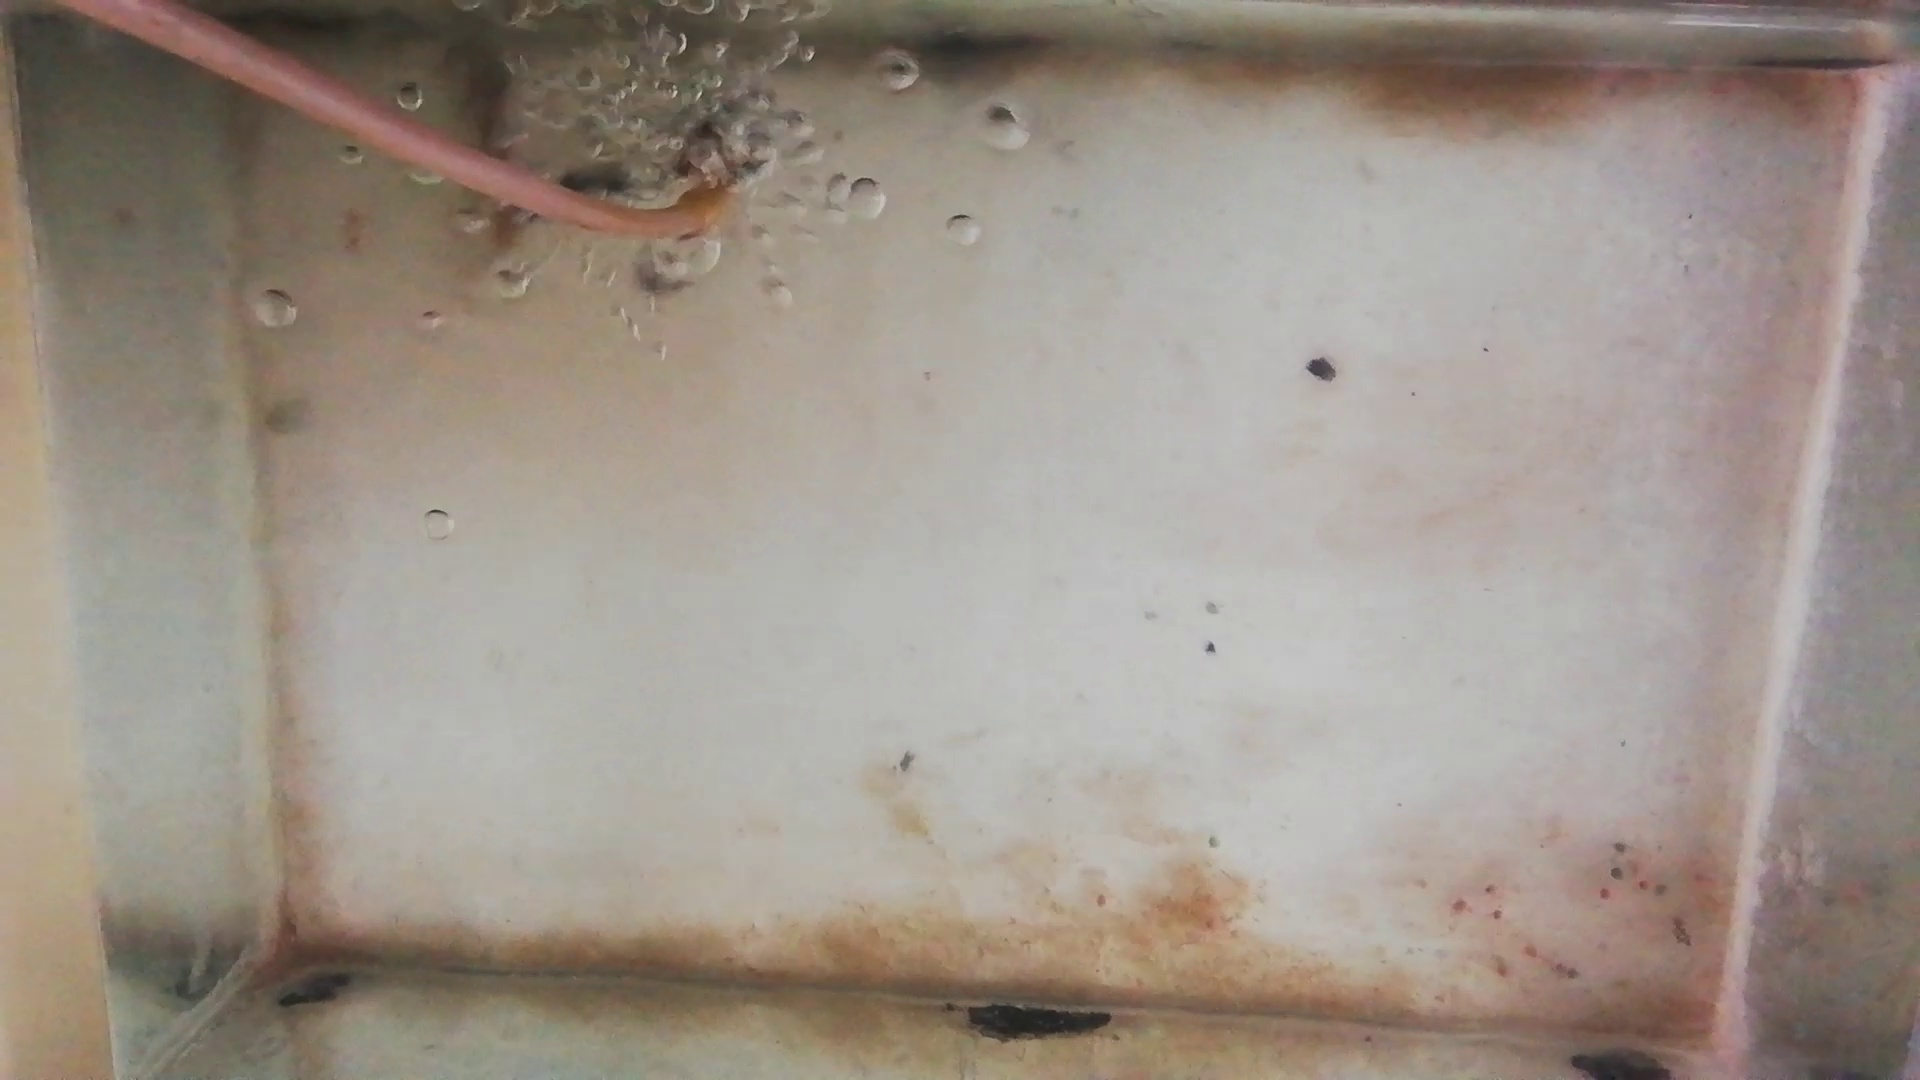fish: (452, 29, 524, 253), (555, 158, 651, 196)
